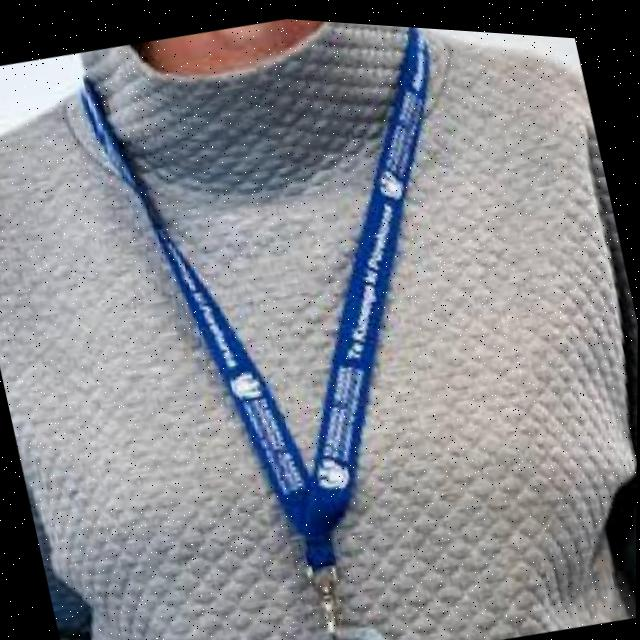id_card: (63, 4, 564, 640)
